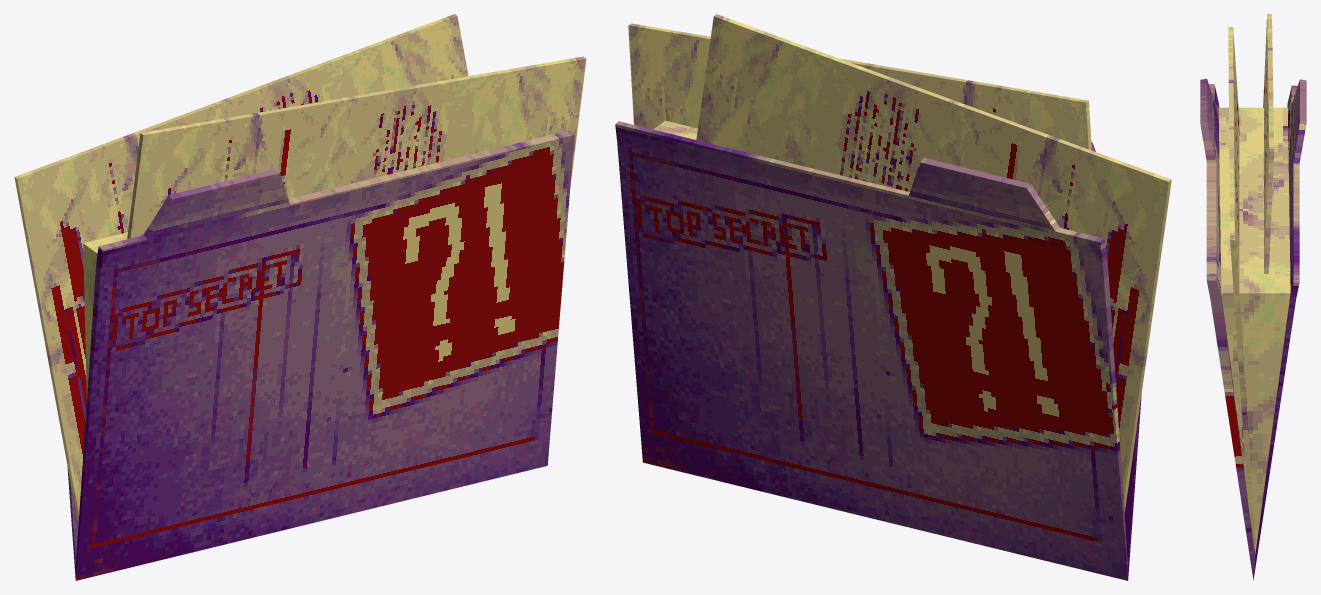
Rendered from fascikle.glb.
3 renders of one model, left to right at view 1: azimuth 30°, elevation 25°; view 2: azimuth 150°, elevation 25°; view 3: azimuth 270°, elevation 25°, orthographic. The views are drawn at different scales.
Parts seen in each view (by area): view 1: fascikla; view 2: fascikla; view 3: fascikla.
Boxes of the visible parts, left/top/right/bottom form: fascikla: left=14, top=14, right=586, bottom=580; fascikla: left=615, top=14, right=1171, bottom=580; fascikla: left=1200, top=14, right=1306, bottom=580.
Size of the model in its own units: 2.46 by 1.98 by 0.4826.
1 material, 1 textured.
